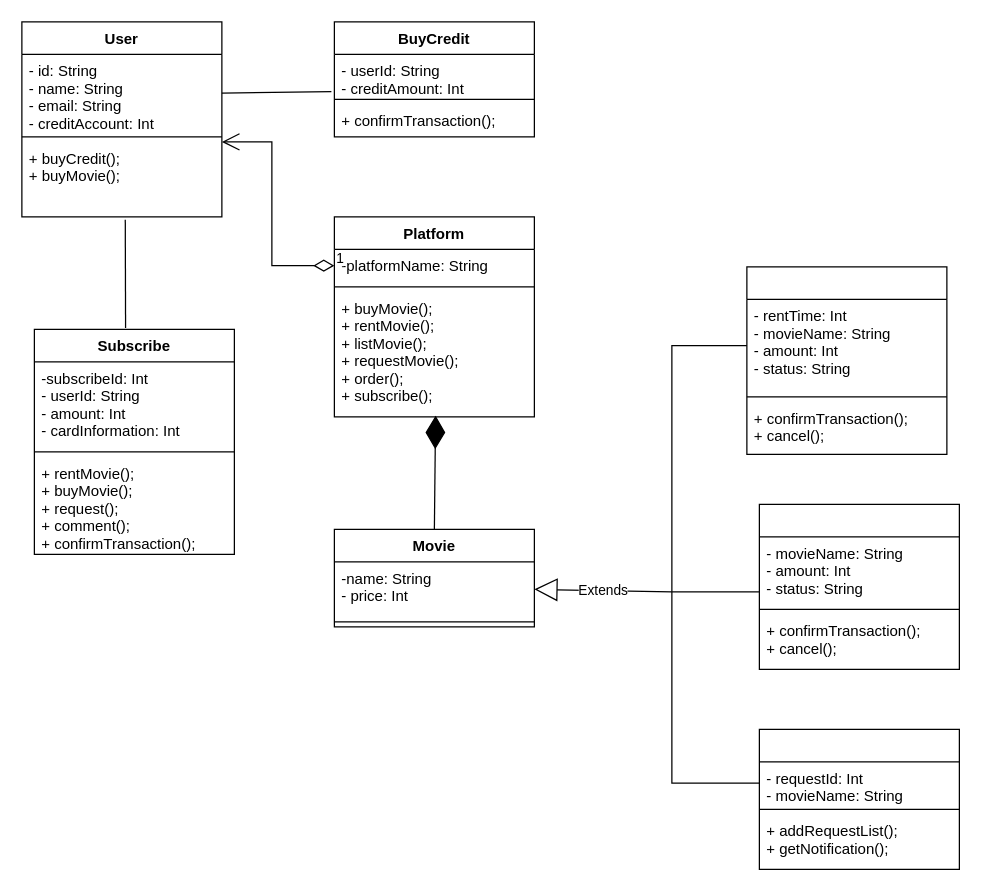
Some shapes in this 981 by 895 pixel diagram are drawn without their labels. Each missing label, with the box of its shape:
BuyMovie: (758, 503, 959, 669)
RentMovie: (746, 266, 947, 454)
RequestMovie: (758, 728, 959, 869)
